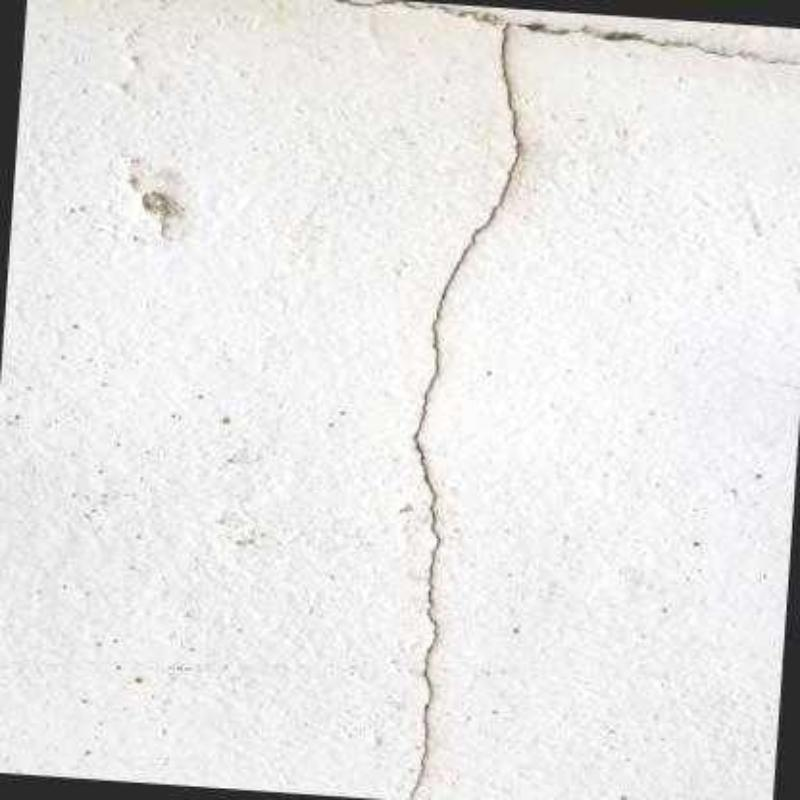pothole: (338, 1, 798, 799)
